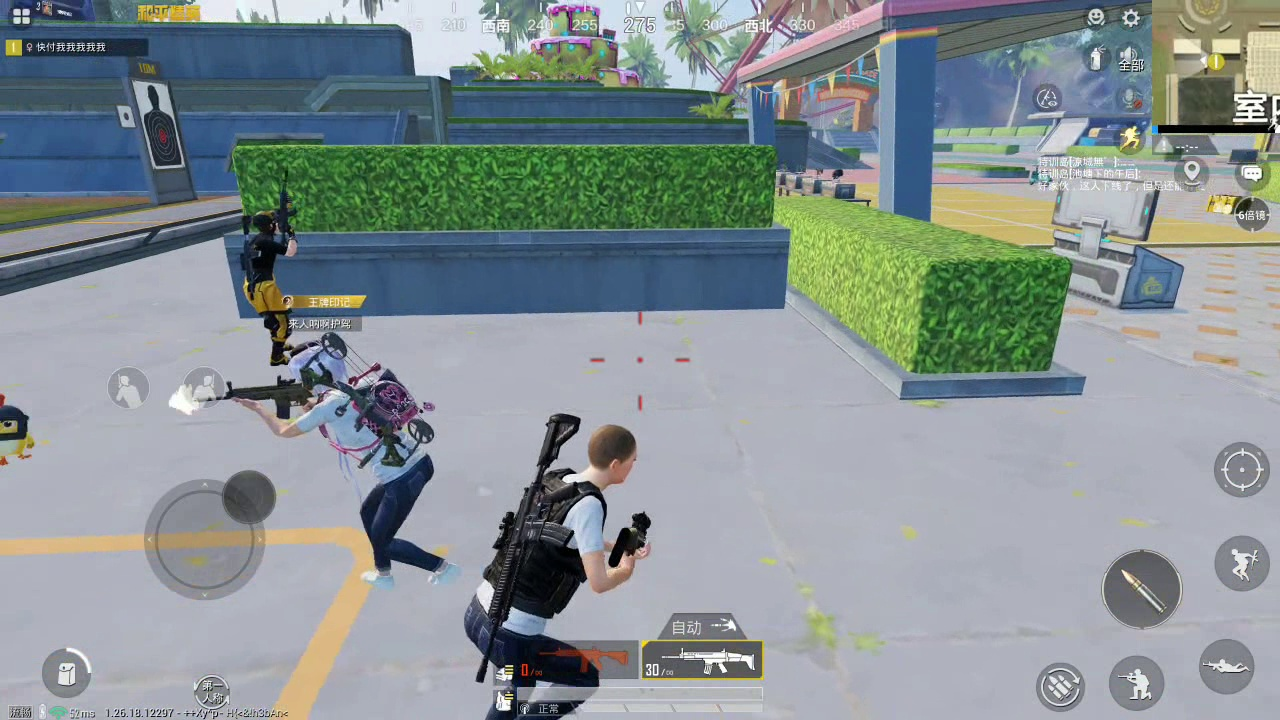enemy: (276, 341, 462, 589), (240, 207, 296, 363)
